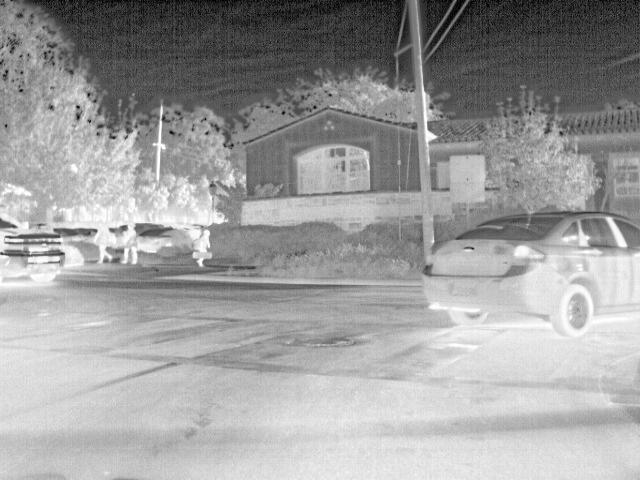car: (421, 210, 639, 338), (0, 213, 64, 285), (139, 225, 182, 254), (58, 225, 84, 242), (81, 224, 97, 242), (188, 223, 202, 237)
person: (121, 222, 138, 264), (93, 220, 109, 262), (195, 227, 209, 265)
